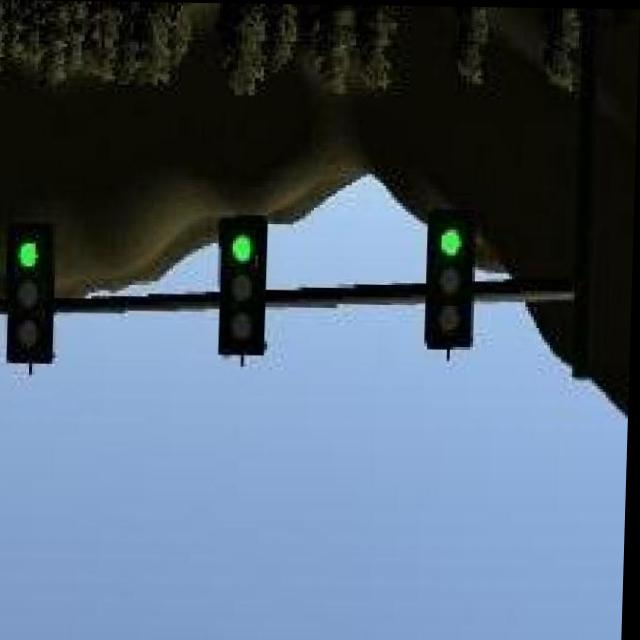green light: (423, 208, 478, 346), (221, 211, 270, 354), (12, 226, 58, 364)
